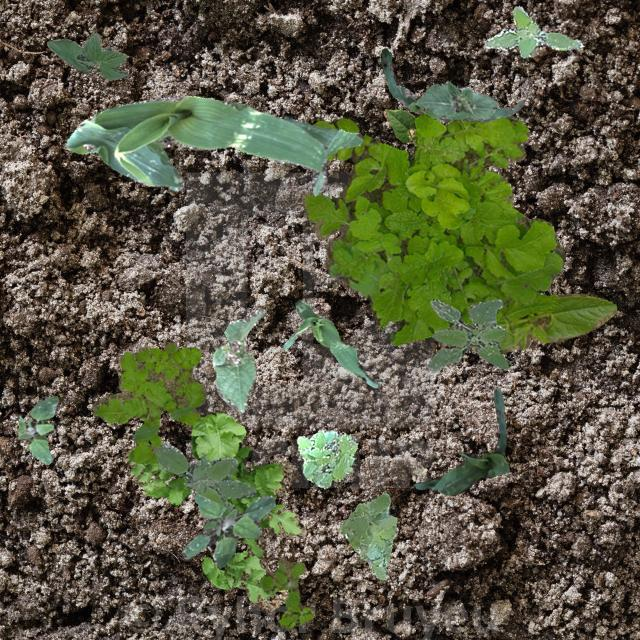crop: (65, 94, 362, 194), (380, 47, 522, 121), (412, 388, 508, 494), (470, 292, 616, 352), (282, 298, 376, 386), (212, 308, 264, 412), (46, 31, 126, 78), (414, 80, 496, 120), (382, 108, 416, 144)
weed: (300, 113, 564, 344), (124, 412, 306, 608), (92, 342, 205, 462), (181, 492, 273, 568), (154, 441, 255, 505), (424, 298, 510, 371), (483, 5, 582, 58), (338, 492, 396, 578), (258, 558, 314, 628), (296, 428, 356, 488), (18, 394, 58, 462)
